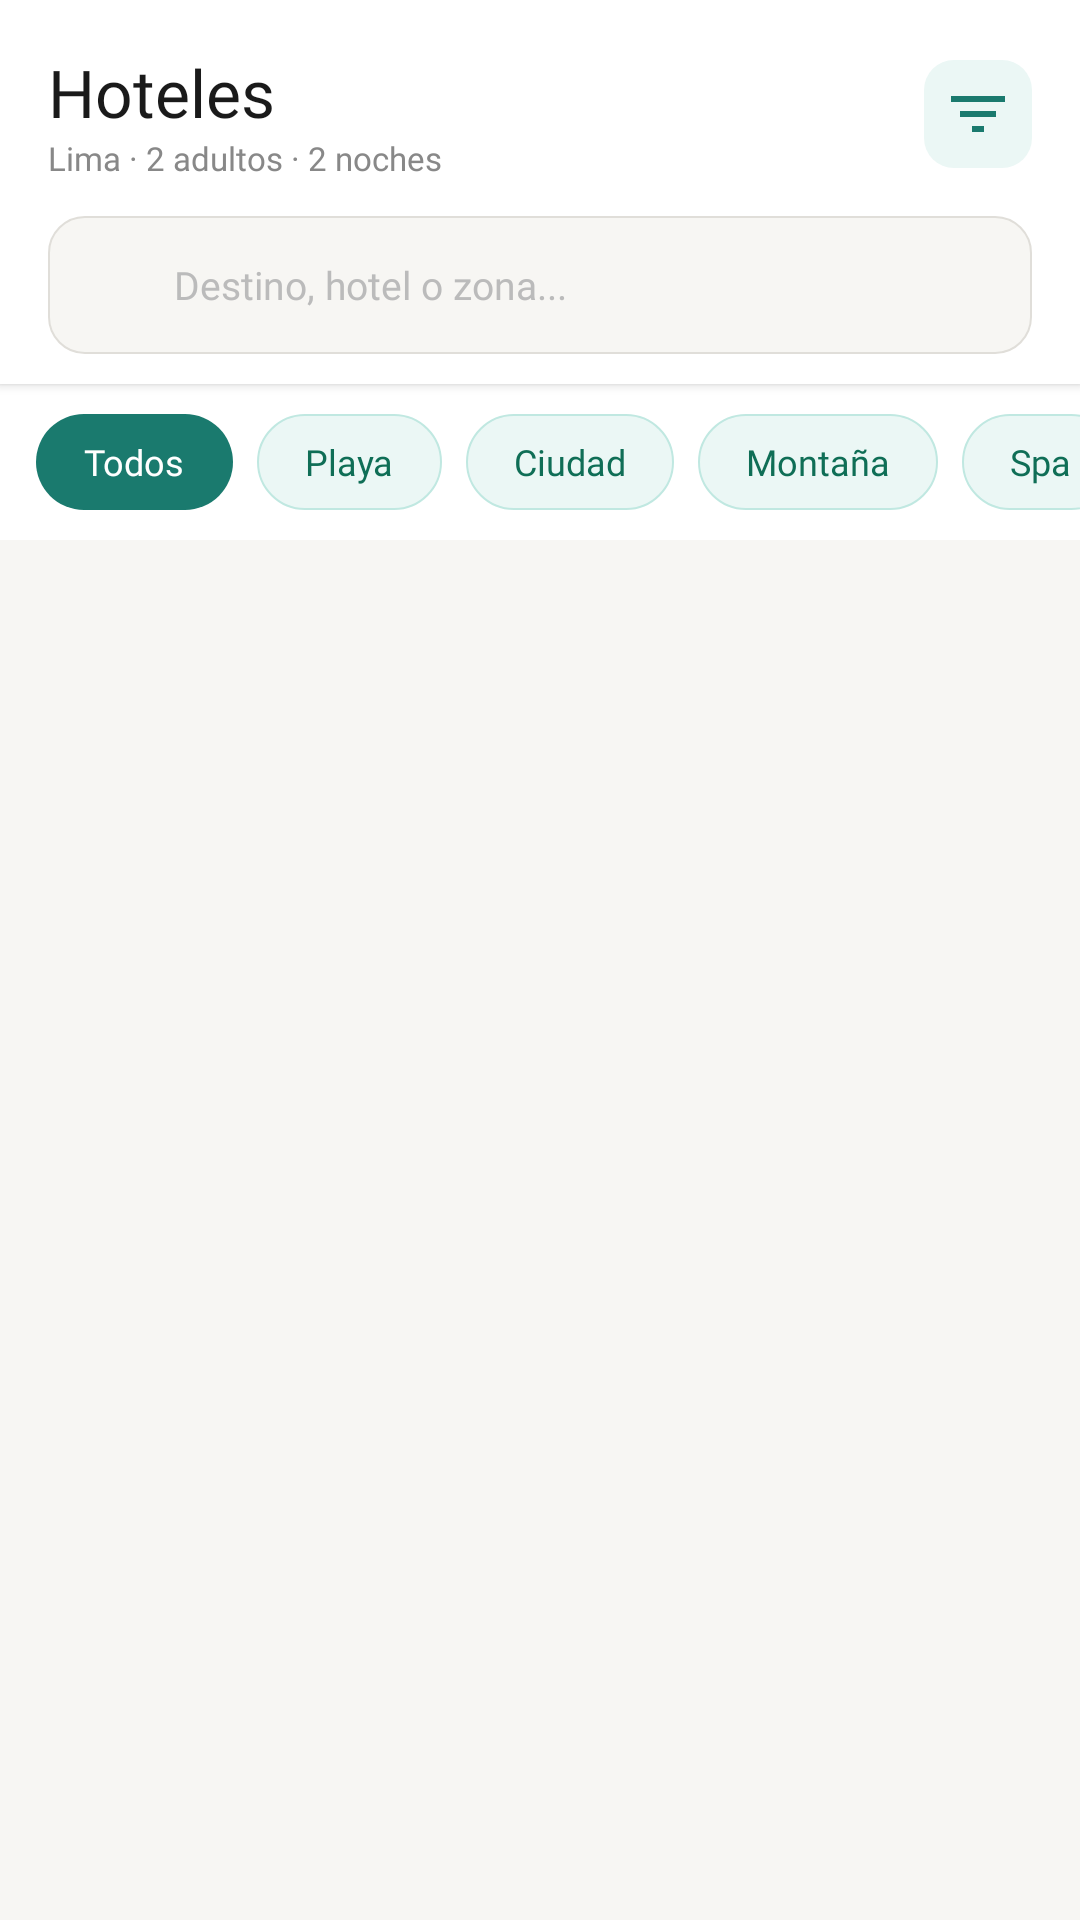

Icon bounding boxes for this 1080w x 1920h phone screenshot, format (x1=x1, y1=y1, x2=x2, y2=y2):
filter: (x1=924, y1=60, x2=1032, y2=168)
